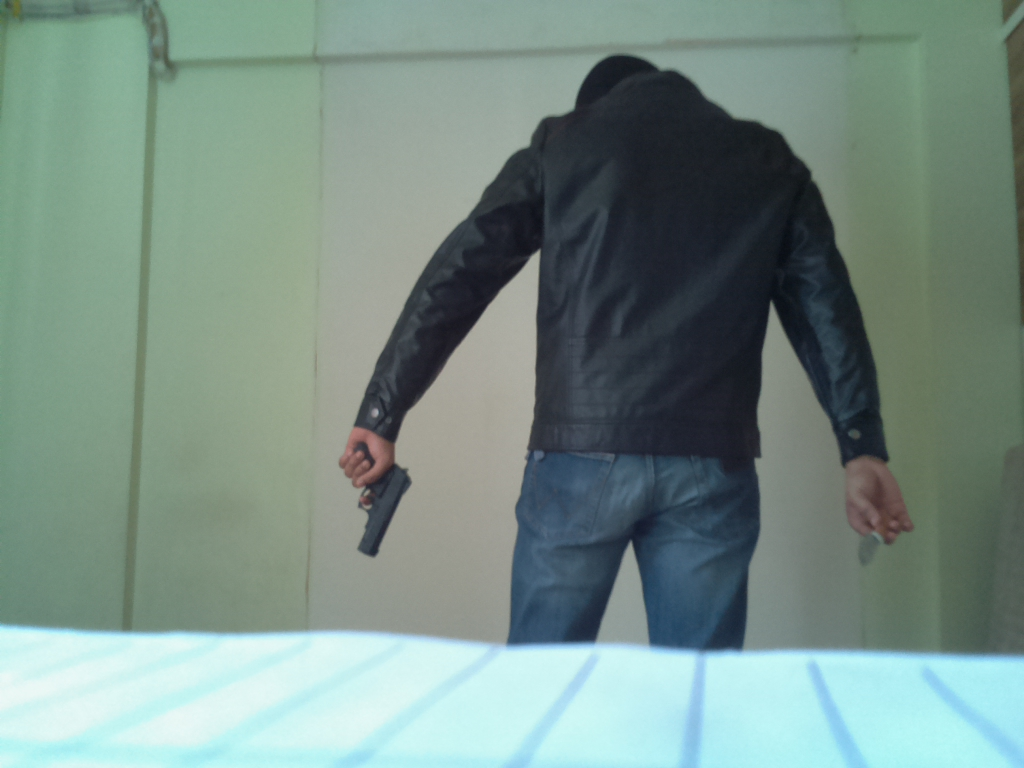gun: (343, 452, 420, 561)
